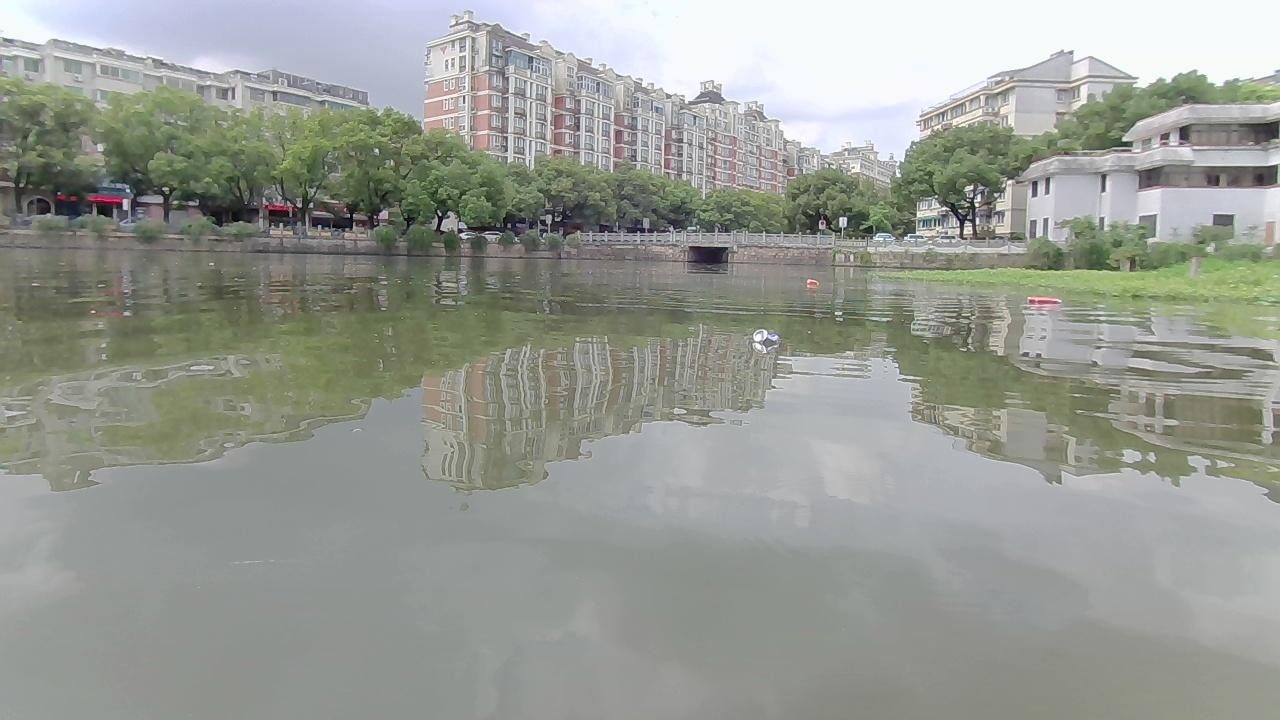bottle: (751, 327, 779, 341), (1026, 295, 1061, 302), (806, 278, 819, 284)
